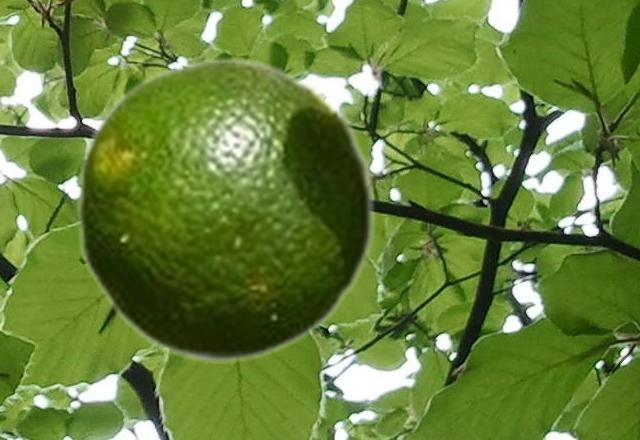calamansi: (74, 56, 376, 362)
